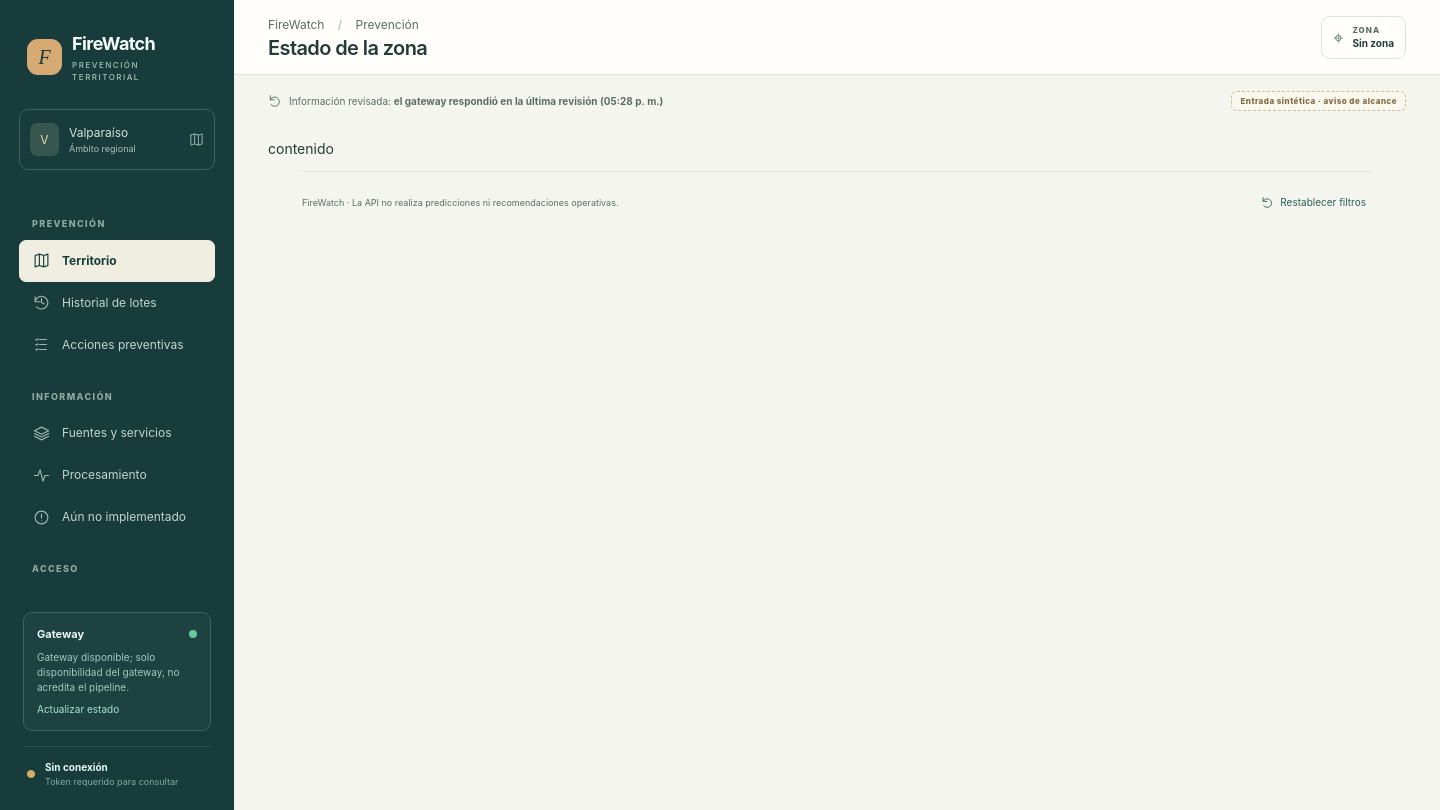
the update bar states the real review state and never contradicts the availability card (S5)
The width and height of the screenshot is (1440, 810).
Expected: the element with class "ready" is shown, [189,630,197,638]
A failed re-check must follow the card, not keep claiming success.
Click the button "Actualizar estado": (78, 709) [37,702,119,716]
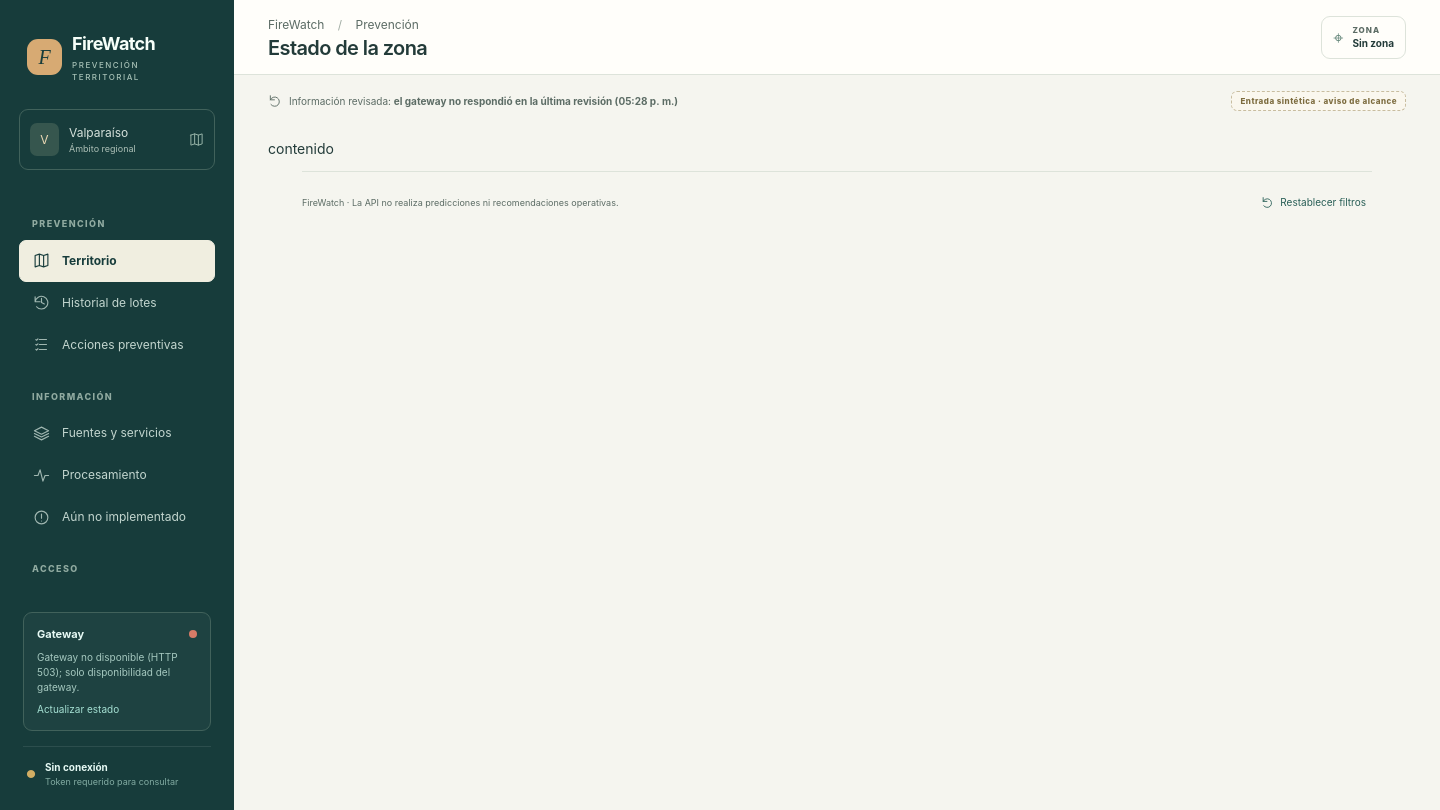
Expected: the element with class "ready" is shown, [189,630,197,638]
Now the text with id "update-checked" shows "no respondió", box [394,94,678,106]
